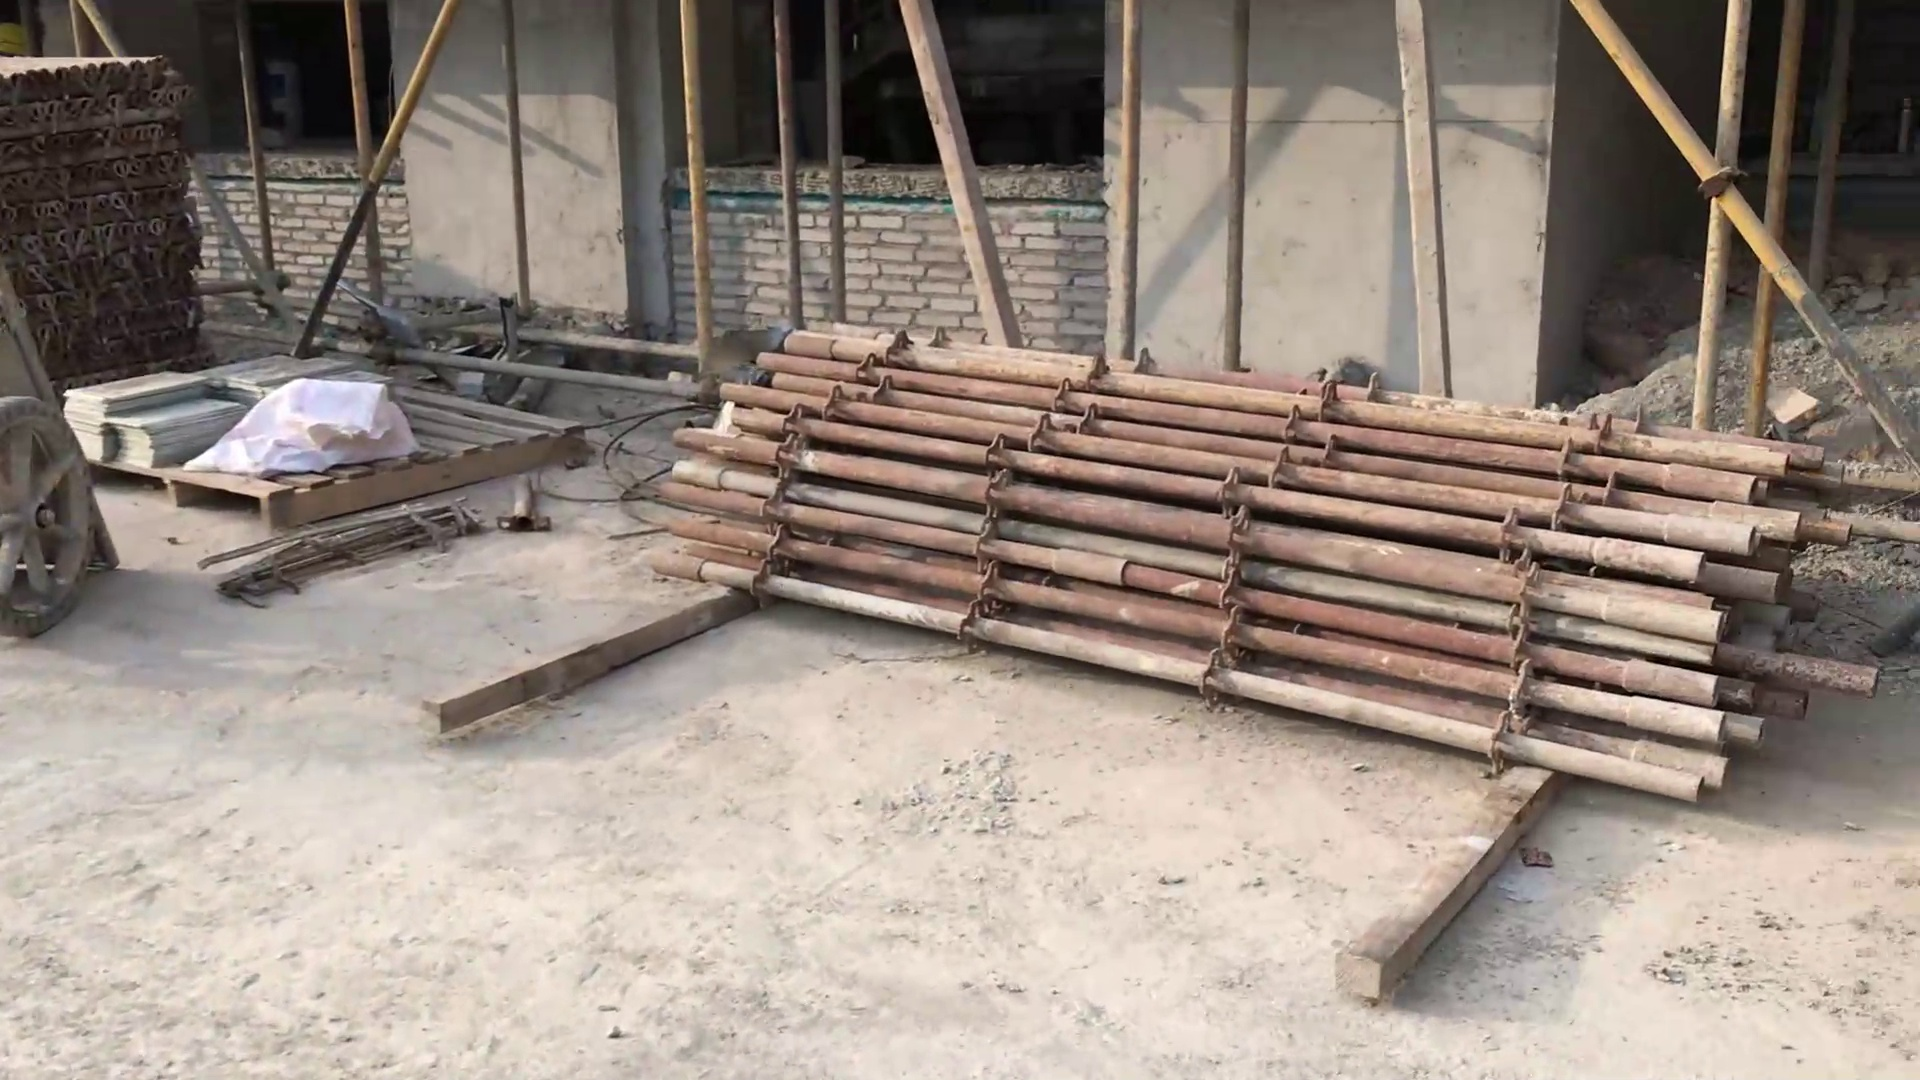handcart: (1, 241, 124, 644)
scaffold: (641, 328, 1880, 808), (1, 50, 211, 393)
